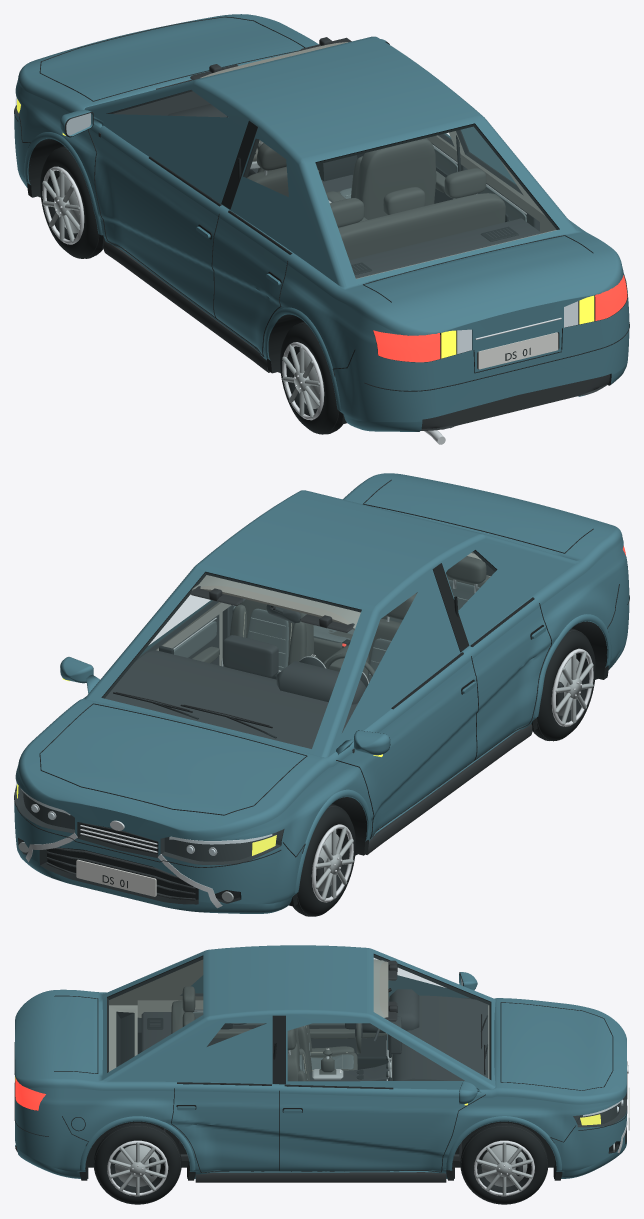
The model's file is DS_Sedan_A.fbx.
3 views of the same model, one above another, from view 1: azimuth 30°, elevation 25°; view 2: azimuth 150°, elevation 25°; view 3: azimuth 270°, elevation 25° (orthographic). The views are drawn at different scales.
Parts seen in each view (by area): view 1: Body_Shell, Glass_Rear, RearBench_Backrest, Backrest.001, RearParcelShelf, RearHeadrest, Tire, Tire.001, PanelGap_Body, Body_Sills, Body_ArchLips, Taillight_L (+9 smaller); view 2: Body_Shell, Glass_Windshield, Dashboard, Tire.001, Tire, PanelGap_Body, FrontLampCover_L, Headliner, Body_Sills, Instrument_Hood, Screen_Housing, Body_ArchLips (+17 smaller); view 3: Body_Shell, Glass_Front_R, Glass_Windshield, Glass_Rear, Dashboard, Tire.002, Tire.003, Body_Sills, Body_ArchLips, PanelGap_Body, Door_Card_Front_L, Body_BPillarTrim (+16 smaller).
Boxes of the visible parts, x1,y1,x2,y2 form: Body_Shell: [14, 14, 629, 431]; Glass_Rear: [316, 125, 557, 278]; RearBench_Backrest: [338, 193, 505, 260]; Backrest.001: [355, 138, 436, 219]; RearParcelShelf: [349, 218, 541, 278]; RearHeadrest: [329, 168, 486, 227]; Tire: [40, 146, 102, 258]; Tire.001: [280, 322, 342, 434]; PanelGap_Body: [14, 16, 629, 391]; Body_Sills: [103, 241, 270, 372]; Body_ArchLips: [24, 132, 341, 410]; Taillight_L: [373, 330, 440, 362]; Body_Shell: [14, 473, 629, 913]; Glass_Windshield: [103, 573, 360, 748]; Dashboard: [105, 650, 357, 748]; Tire.001: [533, 628, 595, 740]; Tire: [293, 804, 355, 916]; PanelGap_Body: [14, 479, 629, 867]; FrontLampCover_L: [161, 830, 282, 864]; Headliner: [192, 575, 360, 630]; Body_Sills: [366, 724, 532, 854]; Instrument_Hood: [276, 661, 365, 704]; Screen_Housing: [222, 635, 278, 677]; Body_ArchLips: [294, 614, 611, 893]; Body_Shell: [15, 945, 626, 1180]; Glass_Front_R: [288, 1024, 463, 1080]; Glass_Windshield: [374, 955, 490, 1078]; Glass_Rear: [108, 957, 202, 1071]; Dashboard: [392, 995, 488, 1080]; Tire.002: [460, 1123, 548, 1204]; Tire.003: [93, 1123, 181, 1204]; Body_Sills: [195, 1172, 446, 1182]; Body_ArchLips: [80, 1116, 561, 1170]; PanelGap_Body: [14, 995, 627, 1172]; Door_Card_Front_L: [309, 1025, 386, 1055]; Body_BPillarTrim: [272, 1015, 285, 1084].
Size of the model in its own units: 213 by 457 by 148.
